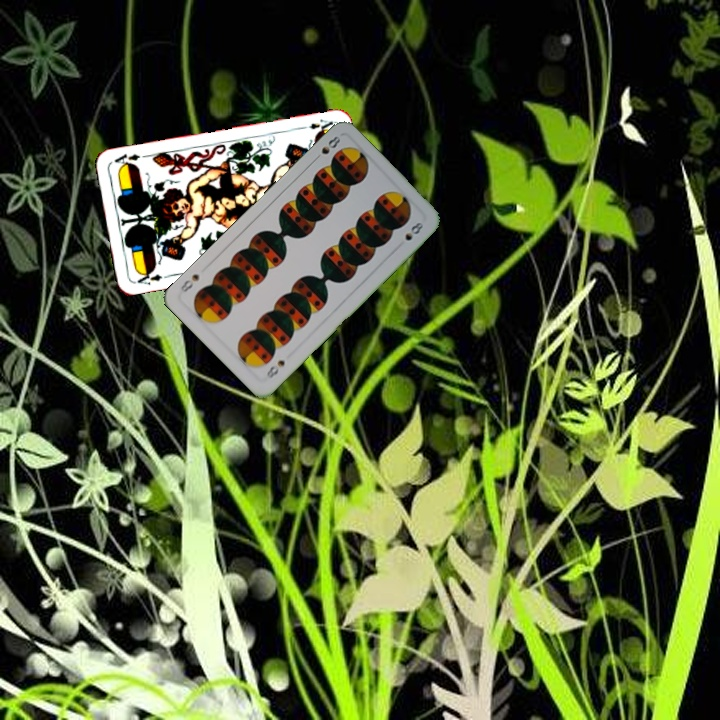EA: (295, 115, 335, 135), (133, 267, 165, 288)
S8: (310, 132, 343, 165), (262, 356, 288, 383)
